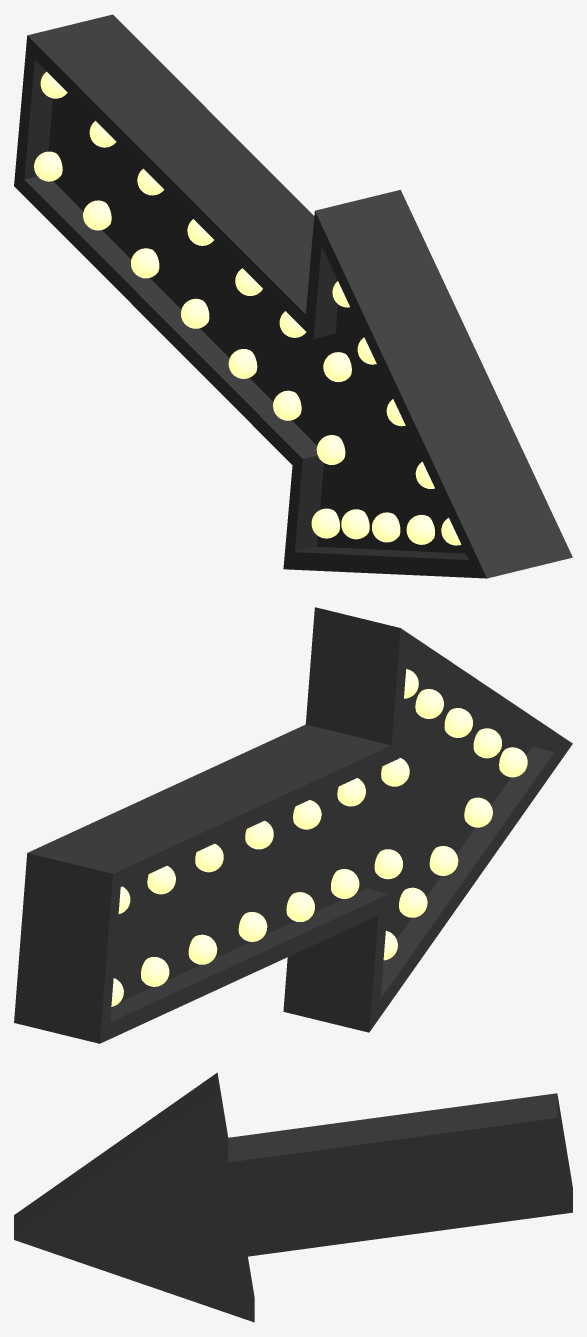
File: SM_Arrow_Basement.fbx
The picture shows the model from 3 angles, top to bottom: view 1: azimuth 30°, elevation 25°; view 2: azimuth 150°, elevation 25°; view 3: azimuth 270°, elevation 25°; orthographic projection. The views are drawn at different scales.
Visible parts, largest first — view 1: SM_Arrow_Basement; view 2: SM_Arrow_Basement; view 3: SM_Arrow_Basement.
Boxes of the visible parts, x1,y1,x2,y2 form: SM_Arrow_Basement: [14, 14, 572, 578]; SM_Arrow_Basement: [14, 607, 572, 1043]; SM_Arrow_Basement: [14, 1072, 572, 1322].
Size of the model in its own units: 15.01 by 63.78 by 143.
